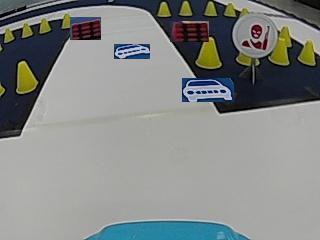evil: (232, 14, 277, 57)
